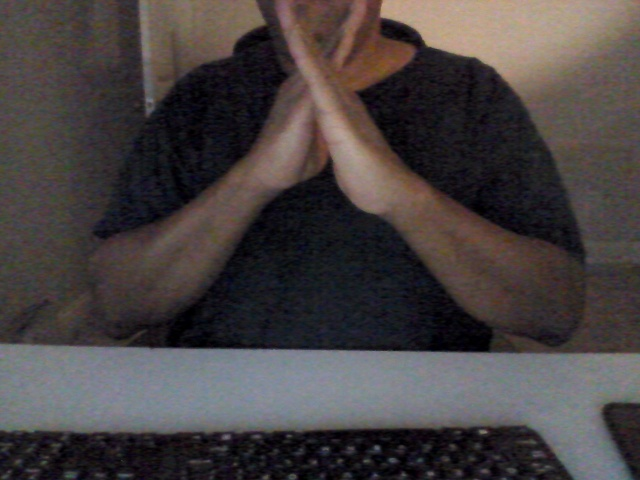quiet: (244, 4, 416, 223)
